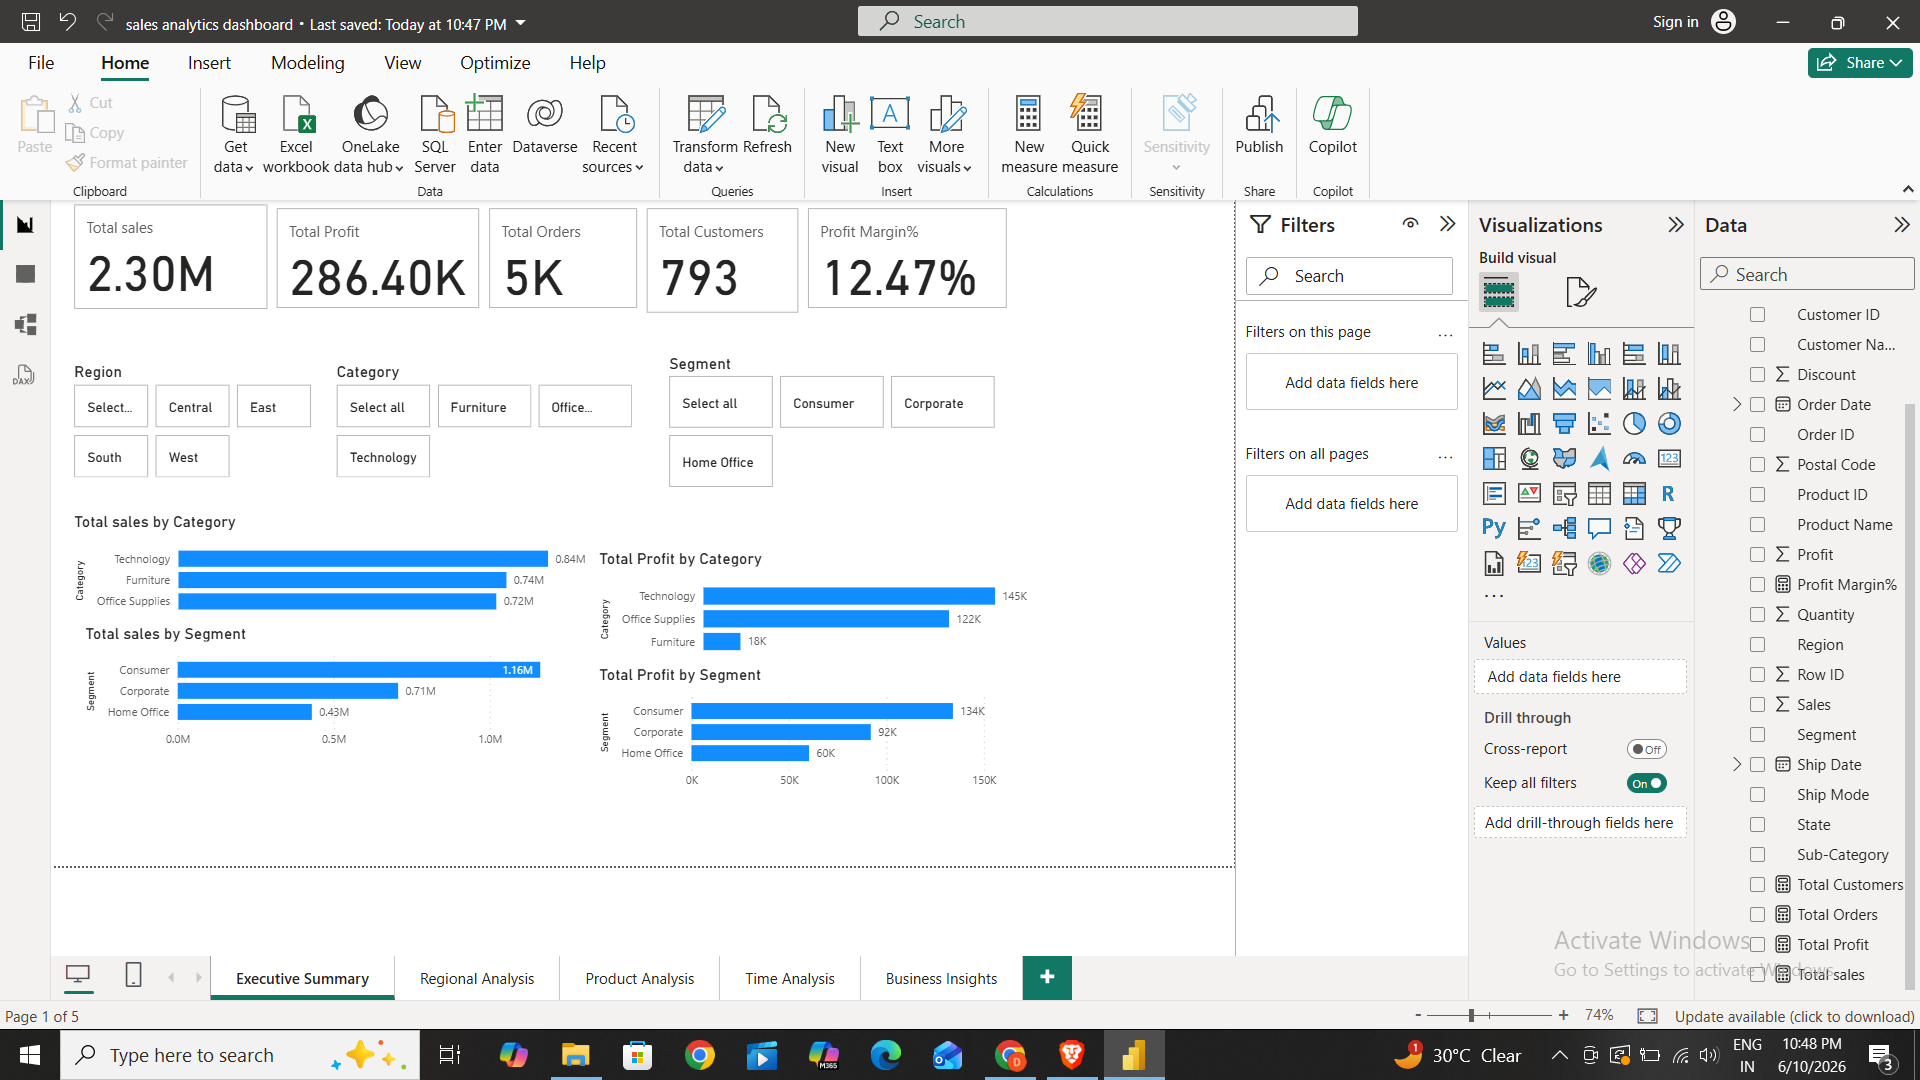

The page's visual inventory and layout, read from the dashboard file:
{"tool":"powerbi","page":{"name":"Executive Summary","canvas":[1280,720],"ordinal":0},"visuals":[{"type":"cardVisual","fields":{"Data":["SSRD.Total sales"]},"box":[20.3,0,219,123],"z":0},{"type":"cardVisual","fields":{"Data":["SSRD.Total Profit"]},"box":[239.3,4.1,229.8,119],"z":1000},{"type":"cardVisual","fields":{"Data":["SSRD.Total Orders"]},"box":[469.1,4.1,170.3,119],"z":2000},{"type":"cardVisual","fields":{"Data":["SSRD.Total Customers"]},"box":[639.5,4.1,174.4,123],"z":3000},{"type":"cardVisual","fields":{"Data":["SSRD.Profit Margin%"]},"box":[813.9,4.1,204.1,119],"z":4000},{"type":"clusteredBarChart","fields":{"Category":["SSRD.Category"],"Y":["SSRD.Total sales"]},"box":[20.3,338,566.5,120.3],"z":5000},{"type":"clusteredBarChart","fields":{"Category":["SSRD.Category"],"Y":["SSRD.Total Profit"]},"box":[588.1,377.2,496.2,125.7],"z":6000},{"type":"clusteredBarChart","fields":{"Category":["SSRD.Segment"],"Y":["SSRD.Total sales"]},"box":[32.4,458.3,554.3,143.3],"z":7000},{"type":"clusteredBarChart","fields":{"Category":["SSRD.Segment"],"Y":["SSRD.Total Profit"]},"box":[588.1,502.9,451.5,143.3],"z":8000},{"type":"advancedSlicerVisual","fields":{"Values":["SSRD.Region"]},"box":[20.3,175.8,266.3,131.1],"z":8001},{"type":"advancedSlicerVisual","fields":{"Values":["SSRD.Category"]},"box":[304.2,175.8,329.9,131.1],"z":8002},{"type":"advancedSlicerVisual","fields":{"Values":["SSRD.Segment"]},"box":[663.8,166.3,363.7,150.1],"z":8003}]}

Visuals, with their boxes on the page's 1280x720 design canvas (x1, y1, x2, y2). These are canvas units, not pixel positions in the 1920x1080 screenshot, which may show the page scaled, cropped or inside an application window:
cardVisual - SSRD.Total sales: x1=20, y1=0, x2=239, y2=123
cardVisual - SSRD.Total Profit: x1=239, y1=4, x2=469, y2=123
cardVisual - SSRD.Total Orders: x1=469, y1=4, x2=639, y2=123
cardVisual - SSRD.Total Customers: x1=640, y1=4, x2=814, y2=127
cardVisual - SSRD.Profit Margin%: x1=814, y1=4, x2=1018, y2=123
clusteredBarChart - SSRD.Category x SSRD.Total sales: x1=20, y1=338, x2=587, y2=458
clusteredBarChart - SSRD.Category x SSRD.Total Profit: x1=588, y1=377, x2=1084, y2=503
clusteredBarChart - SSRD.Segment x SSRD.Total sales: x1=32, y1=458, x2=587, y2=602
clusteredBarChart - SSRD.Segment x SSRD.Total Profit: x1=588, y1=503, x2=1040, y2=646
advancedSlicerVisual - SSRD.Region: x1=20, y1=176, x2=287, y2=307
advancedSlicerVisual - SSRD.Category: x1=304, y1=176, x2=634, y2=307
advancedSlicerVisual - SSRD.Segment: x1=664, y1=166, x2=1028, y2=316
